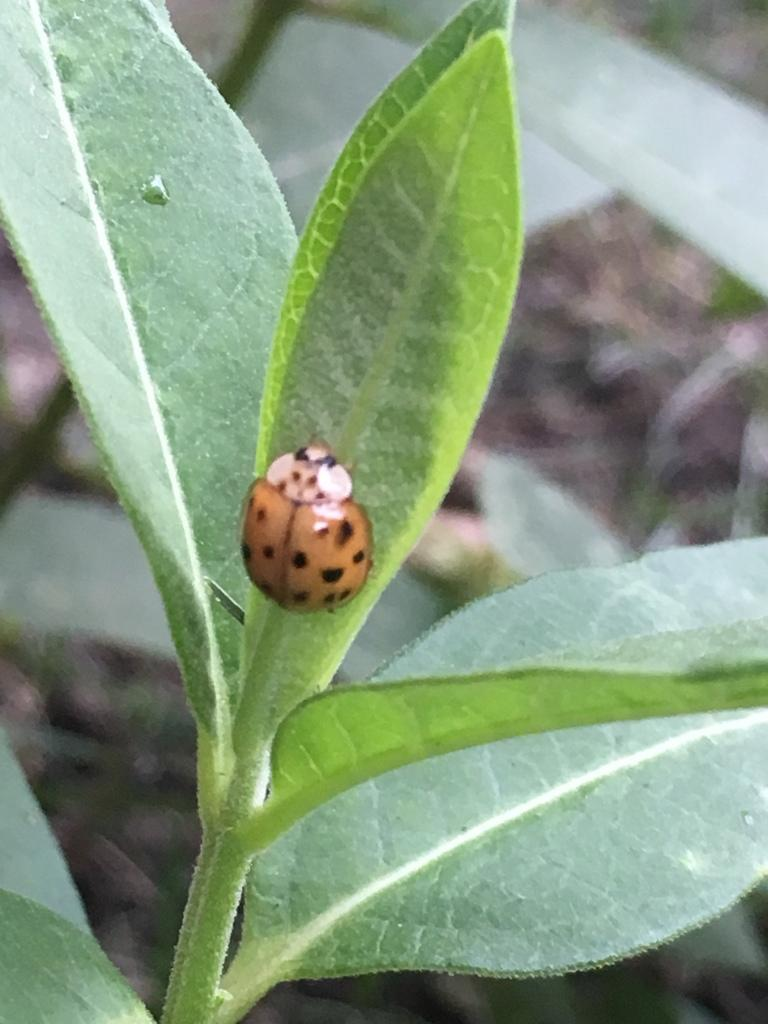ladybug: (239, 436, 379, 616)
